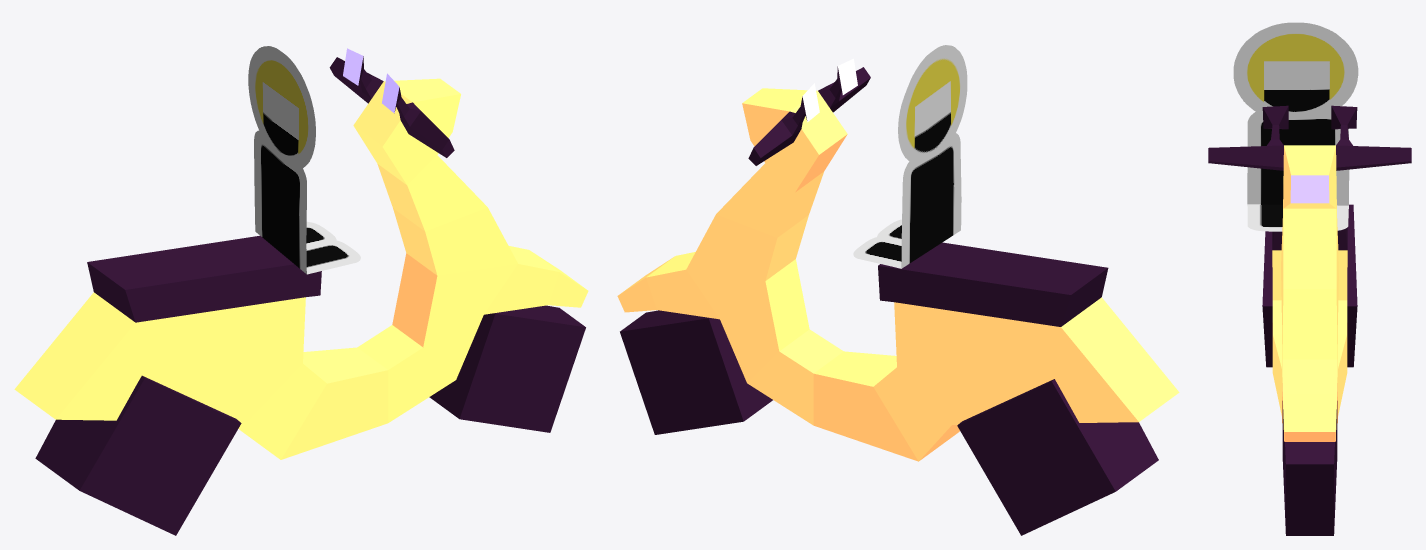
Rendered from Motor_NoSpion_NoPlat_Helmet.fbx.
3 views of the same model, side by side, from view 1: azimuth 30°, elevation 25°; view 2: azimuth 150°, elevation 25°; view 3: azimuth 270°, elevation 25° (orthographic). The views are drawn at different scales.
Visible parts, largest first — view 1: Motor_NoSpion_NoPlat_Helmet, Sprite People.005; view 2: Motor_NoSpion_NoPlat_Helmet, Sprite People.005; view 3: Motor_NoSpion_NoPlat_Helmet, Sprite People.005.
Part boxes in pixels (x1,y1,x2,y2): Motor_NoSpion_NoPlat_Helmet: (14, 48, 588, 535); Sprite People.005: (248, 46, 360, 274); Motor_NoSpion_NoPlat_Helmet: (617, 58, 1179, 535); Sprite People.005: (853, 45, 967, 268); Motor_NoSpion_NoPlat_Helmet: (1208, 105, 1411, 535); Sprite People.005: (1233, 22, 1358, 231).
Size of the model in its own units: 262 by 210 by 95.02.
